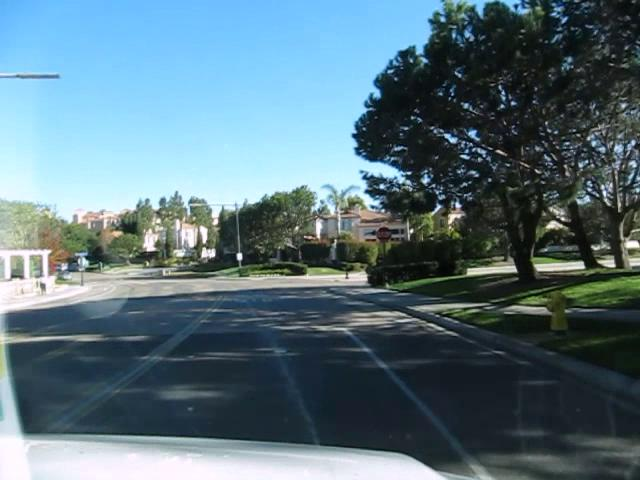stop: (375, 225, 392, 243)
